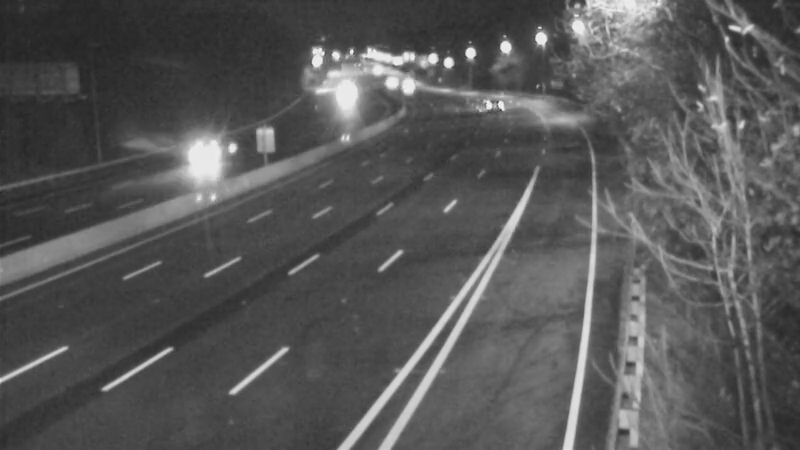vehicle: (381, 56, 431, 106), (361, 57, 411, 107), (466, 76, 516, 126), (183, 124, 233, 174), (318, 64, 368, 114)
